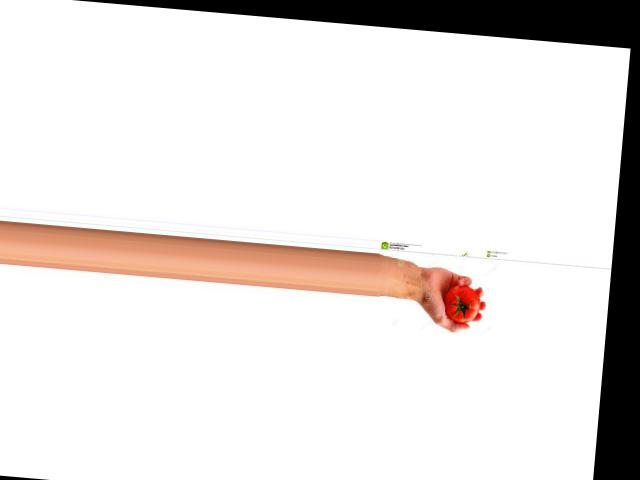tomato: (443, 283, 482, 323)
